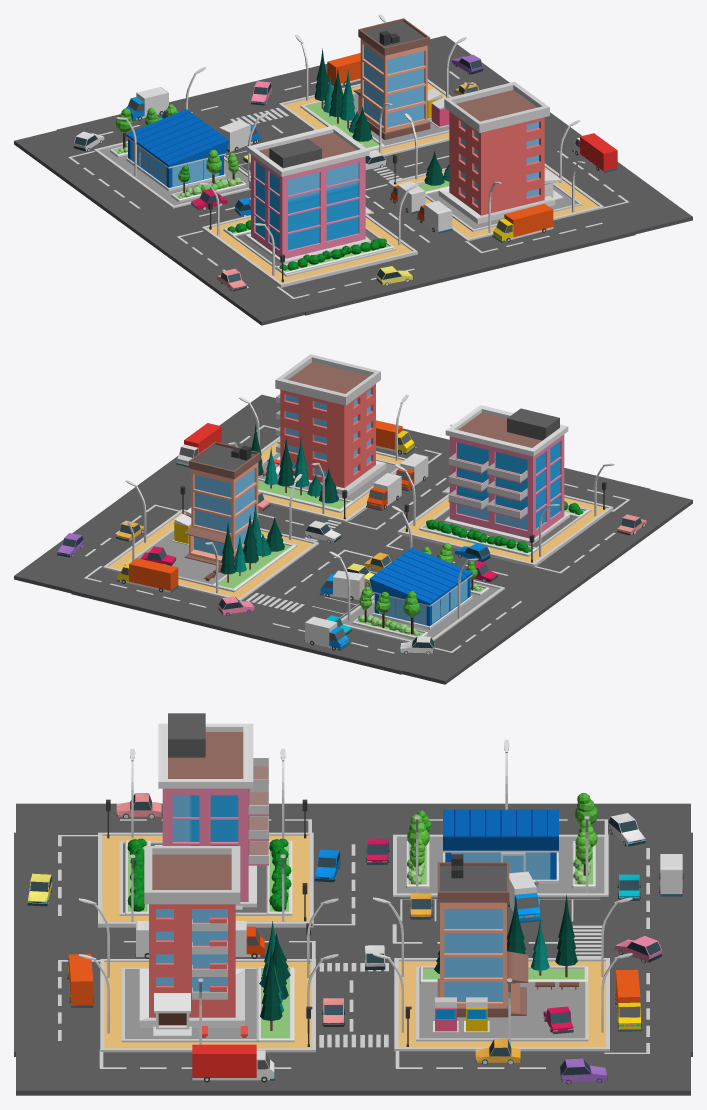
The model's file is city2.obj.
The picture shows the model from 3 angles, top to bottom: view 1: azimuth 30°, elevation 25°; view 2: azimuth 150°, elevation 25°; view 3: azimuth 270°, elevation 25°; orthographic projection. The views are drawn at different scales.
Visible parts, largest first — view 1: ROAD_Lines_12_Mesh.098, House_Mesh.025, House_2_Mesh.002, House_3_Mesh.056, Shop_Mesh.057, Floor_Mesh.035, Floor_4_4_Mesh.090, Floor_2_Mesh.044, Car_08_3_Mesh.013, Floor_3_Mesh.069, Car_08_4_Mesh.012, Floor_4_2_Mesh.043 (+11 smaller); view 2: ROAD_Lines_12_Mesh.098, House_Mesh.025, House_2_Mesh.002, House_3_Mesh.056, Shop_Mesh.057, Floor_Mesh.035, Floor_3_Mesh.069, Floor_4_4_Mesh.090, Floor_4_3_Mesh.068, Car_08_5_Mesh.021, Floor_2_Mesh.044, Car_08_1_Mesh.019 (+13 smaller); view 3: ROAD_Lines_12_Mesh.098, House_2_Mesh.002, House_Mesh.025, House_3_Mesh.056, Shop_Mesh.057, Floor_3_Mesh.069, Floor_2_Mesh.044, Floor_4_3_Mesh.068, Floor_Mesh.035, Floor_4_4_Mesh.090, Floor_4_2_Mesh.043, Car_08_4_Mesh.012 (+28 smaller).
Part boxes in pixels (box(x1,y1,x2,y2)): ROAD_Lines_12_Mesh.098: box(14, 35, 692, 325); House_Mesh.025: box(245, 125, 373, 264); House_2_Mesh.002: box(438, 81, 563, 223); House_3_Mesh.056: box(353, 18, 430, 139); Shop_Mesh.057: box(126, 109, 229, 191); Floor_Mesh.035: box(201, 214, 417, 287); Floor_4_4_Mesh.090: box(94, 141, 250, 208); Floor_2_Mesh.044: box(388, 163, 604, 241); Car_08_3_Mesh.013: box(492, 203, 553, 242); Floor_3_Mesh.069: box(278, 79, 451, 156); Car_08_4_Mesh.012: box(572, 133, 617, 173); Floor_4_2_Mesh.043: box(425, 183, 582, 231); ROAD_Lines_12_Mesh.098: box(14, 394, 692, 684); House_Mesh.025: box(441, 405, 569, 544); House_2_Mesh.002: box(275, 354, 386, 496); House_3_Mesh.056: box(184, 441, 260, 566); Shop_Mesh.057: box(369, 547, 472, 629); Floor_Mesh.035: box(397, 494, 613, 567); Floor_3_Mesh.069: box(103, 509, 318, 600); Floor_4_4_Mesh.090: box(341, 579, 504, 642); Floor_4_3_Mesh.068: box(124, 528, 297, 592); Car_08_5_Mesh.021: box(116, 558, 178, 592); Floor_2_Mesh.044: box(260, 436, 406, 522); Car_08_1_Mesh.019: box(304, 616, 349, 650); ROAD_Lines_12_Mesh.098: box(14, 803, 692, 1095); House_2_Mesh.002: box(139, 846, 244, 1036); House_Mesh.025: box(154, 713, 268, 909); House_3_Mesh.056: box(437, 854, 528, 1017); Shop_Mesh.057: box(443, 809, 558, 883); Floor_3_Mesh.069: box(394, 958, 609, 1051); Floor_2_Mesh.044: box(100, 959, 315, 1052); Floor_4_3_Mesh.068: box(416, 966, 588, 1041); Floor_Mesh.035: box(98, 832, 313, 927); Floor_4_4_Mesh.090: box(393, 834, 608, 897); Floor_4_2_Mesh.043: box(121, 967, 294, 1042); Car_08_4_Mesh.012: box(191, 1044, 275, 1082).
Bounding box in the file's own units: 10.96 × 2.74 × 10.96.
1 material, 1 textured.
